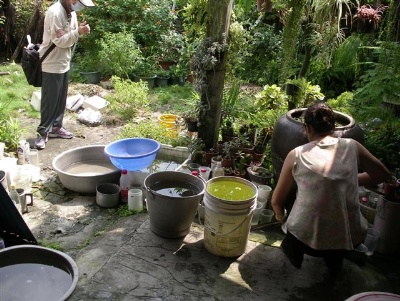bottle: (127, 188, 143, 212), (257, 183, 271, 206), (259, 208, 274, 225)
bowl: (1, 244, 79, 301), (52, 144, 119, 192), (104, 137, 161, 171), (95, 183, 122, 208)
bucket: (203, 174, 259, 257), (143, 170, 205, 239), (83, 95, 111, 113)
